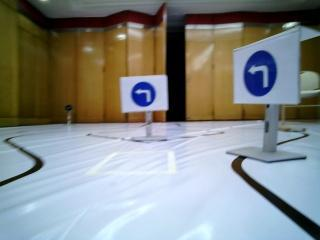left: (233, 48, 298, 100), (120, 77, 165, 109)
